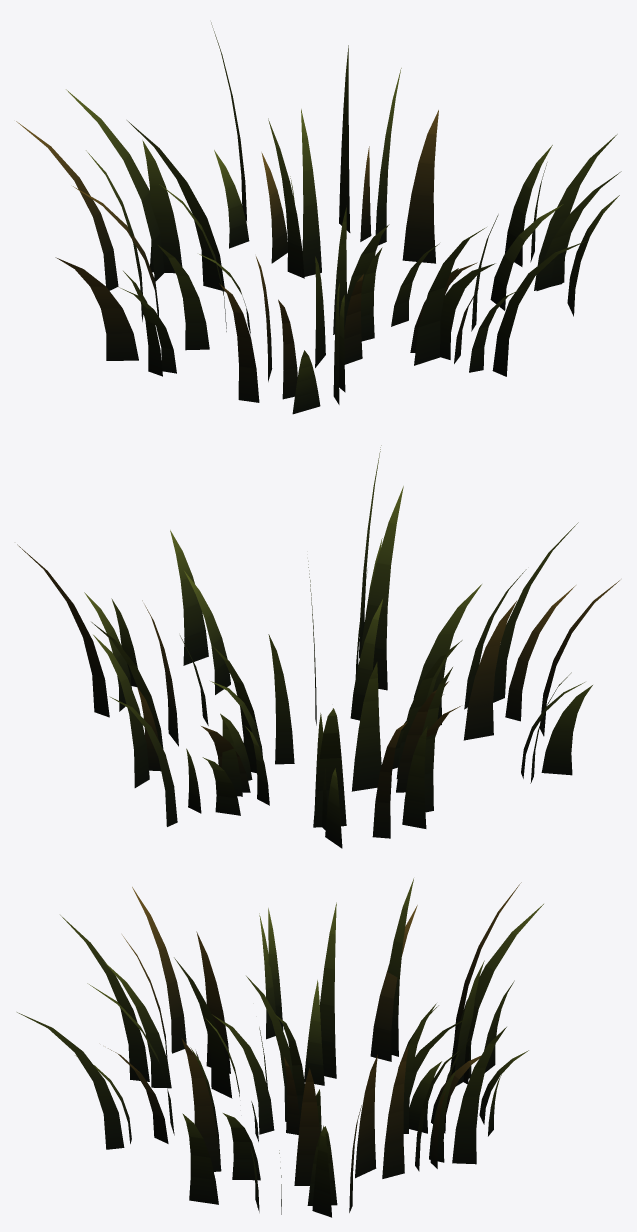
The model's file is SM_V2_Grass_Alpine.fbx.
The picture shows the model from 3 angles, top to bottom: view 1: azimuth 30°, elevation 25°; view 2: azimuth 150°, elevation 25°; view 3: azimuth 270°, elevation 25°; orthographic projection. The views are drawn at different scales.
Parts seen in each view (by area): view 1: SM_V2_Grass_Alpine; view 2: SM_V2_Grass_Alpine; view 3: SM_V2_Grass_Alpine.
Part boxes in pixels (x1,y1,x2,y2): SM_V2_Grass_Alpine: [16, 22, 621, 414]; SM_V2_Grass_Alpine: [17, 445, 619, 848]; SM_V2_Grass_Alpine: [17, 878, 543, 1217].
Size of the model in its own units: 1.08 by 0.318 by 1.12.
